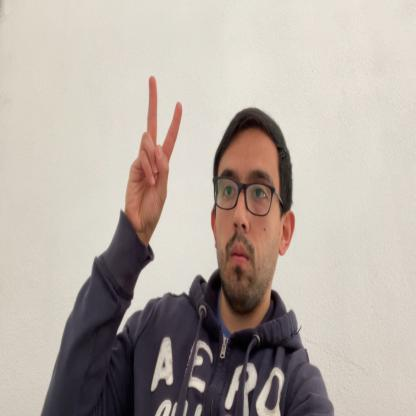V: (126, 73, 182, 242)
